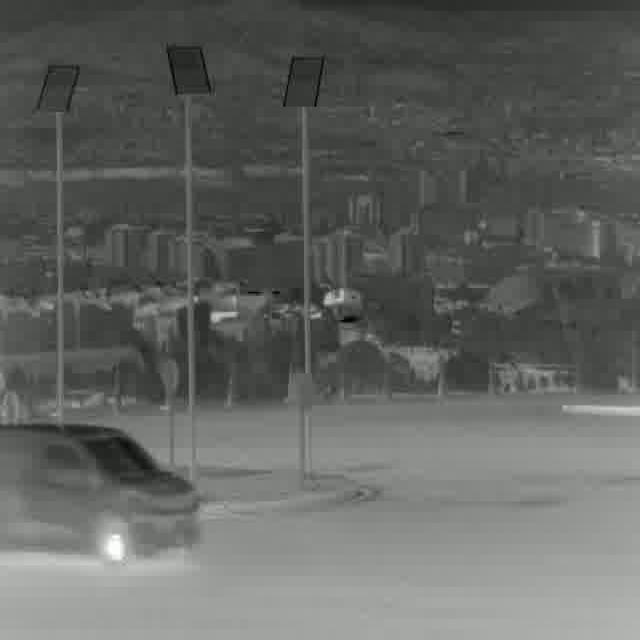Car: (0, 422, 201, 570)
